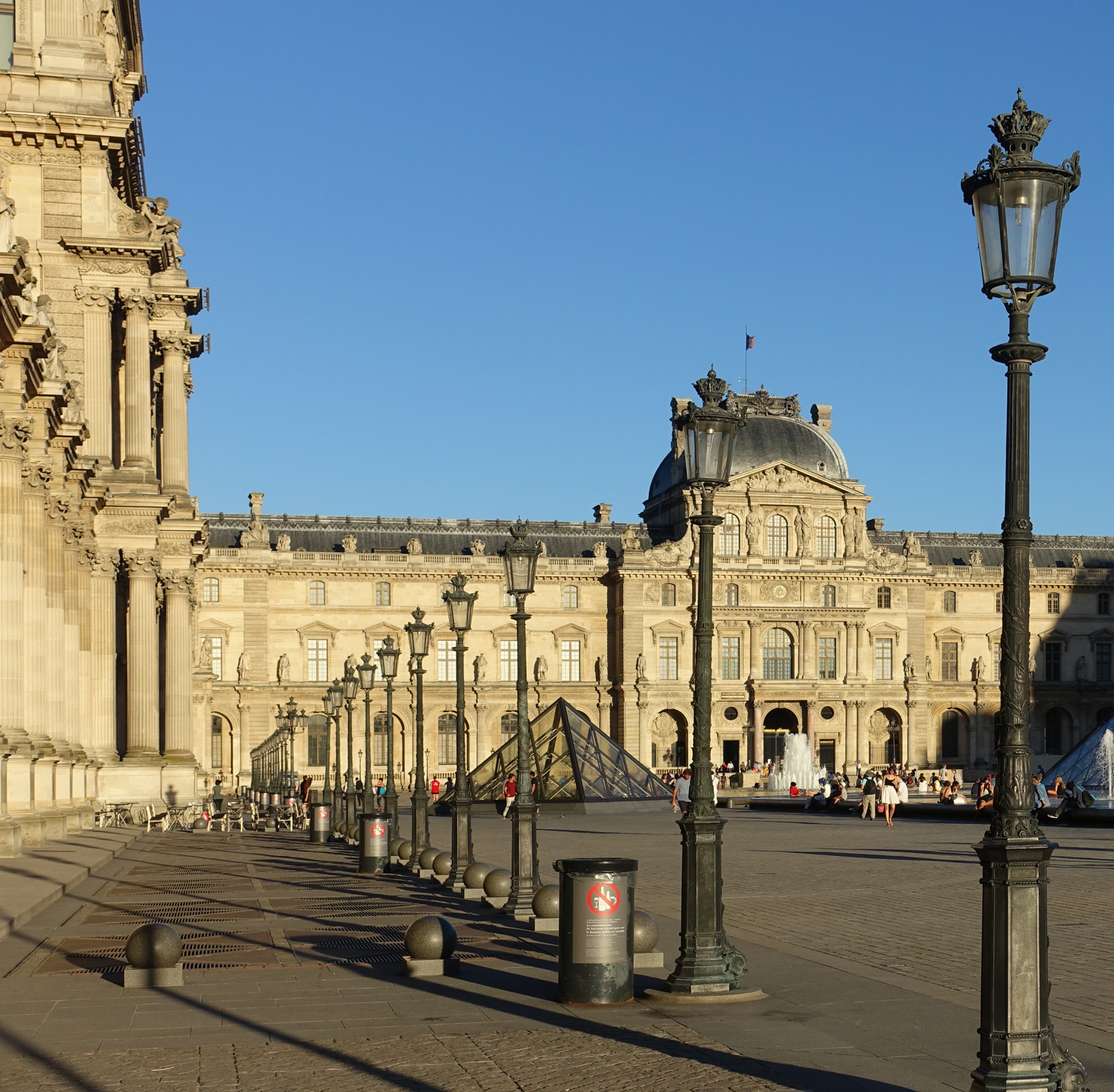fachada: (0, 2, 1114, 817)
poste: (959, 97, 1112, 1092), (668, 357, 773, 1005), (490, 503, 555, 930), (434, 550, 490, 882), (404, 601, 441, 889), (343, 647, 383, 844), (316, 677, 350, 847), (376, 629, 402, 849), (269, 689, 313, 819)
